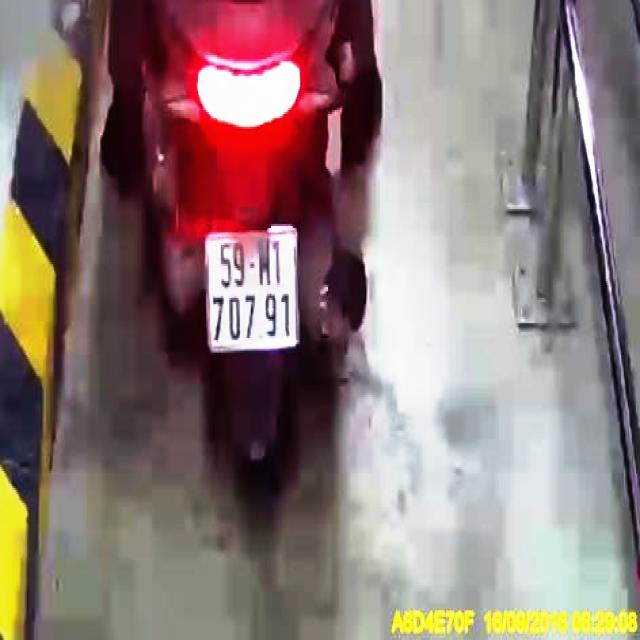license_plate: (209, 230, 300, 352)
